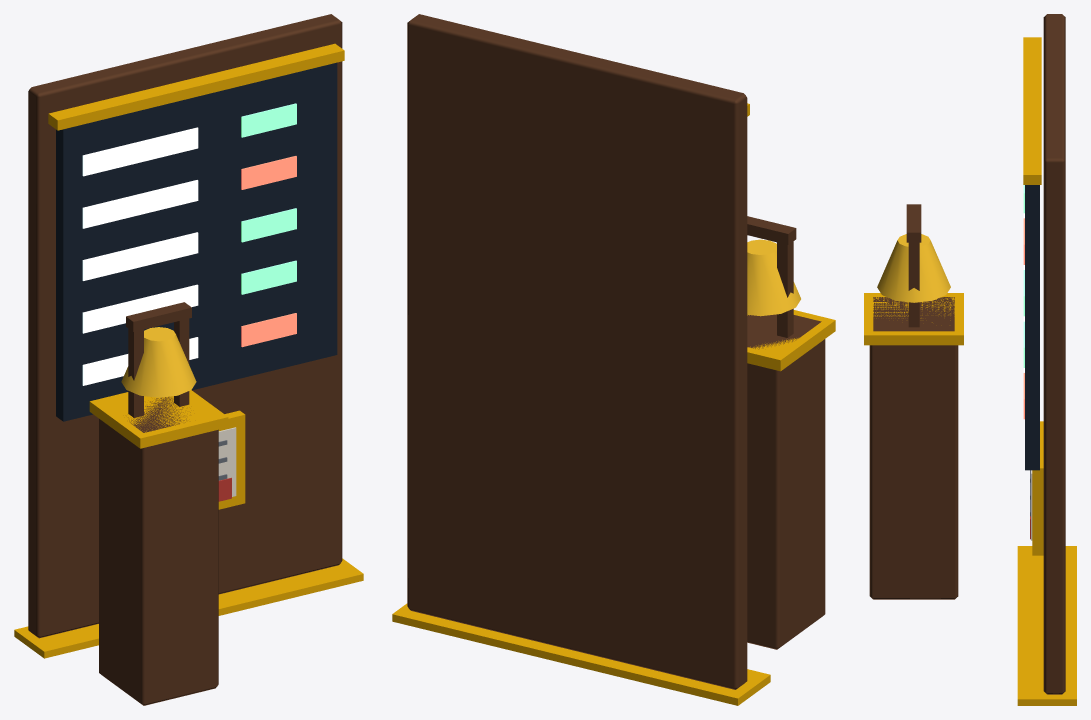
The model's file is station_processing_ausstattung_1_3.glb.
The picture shows the model from 3 angles, left to right: view 1: azimuth 30°, elevation 25°; view 2: azimuth 150°, elevation 25°; view 3: azimuth 270°, elevation 25°; orthographic projection. The views are drawn at different scales.
Parts seen in each view (by area): view 1: station_processing_ausstattung_1_3; view 2: station_processing_ausstattung_1_3; view 3: station_processing_ausstattung_1_3.
Boxes of the visible parts, x1,y1,x2,y2 form: station_processing_ausstattung_1_3: (14,14,363,705); station_processing_ausstattung_1_3: (392,14,835,705); station_processing_ausstattung_1_3: (864,14,1076,705).
Size of the model in its own units: 0.98 by 1.62 by 0.575.
